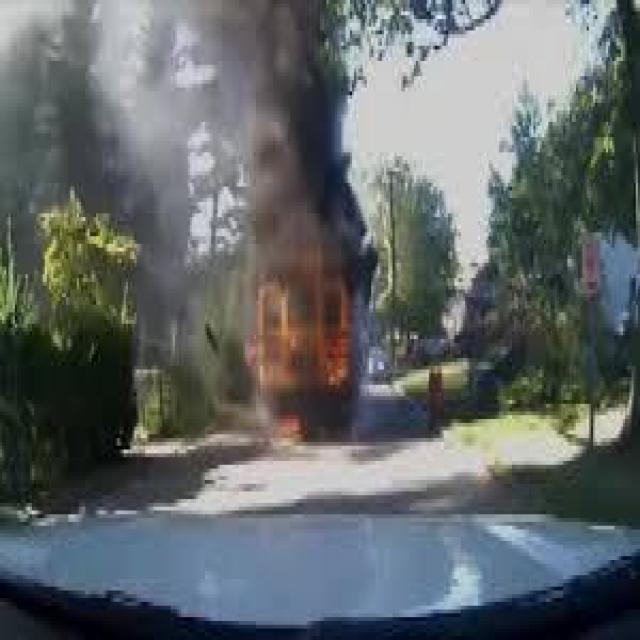smoke: (174, 0, 385, 278)
